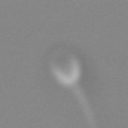normal: (72, 82, 98, 128)
